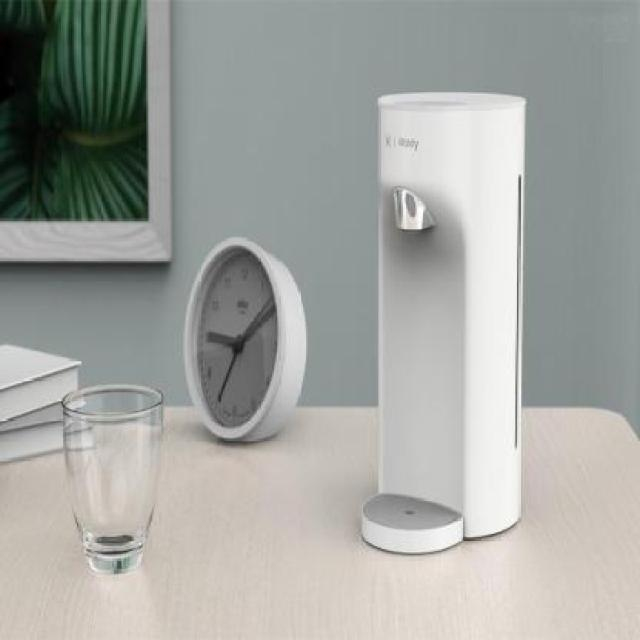cooler: (363, 89, 526, 552)
